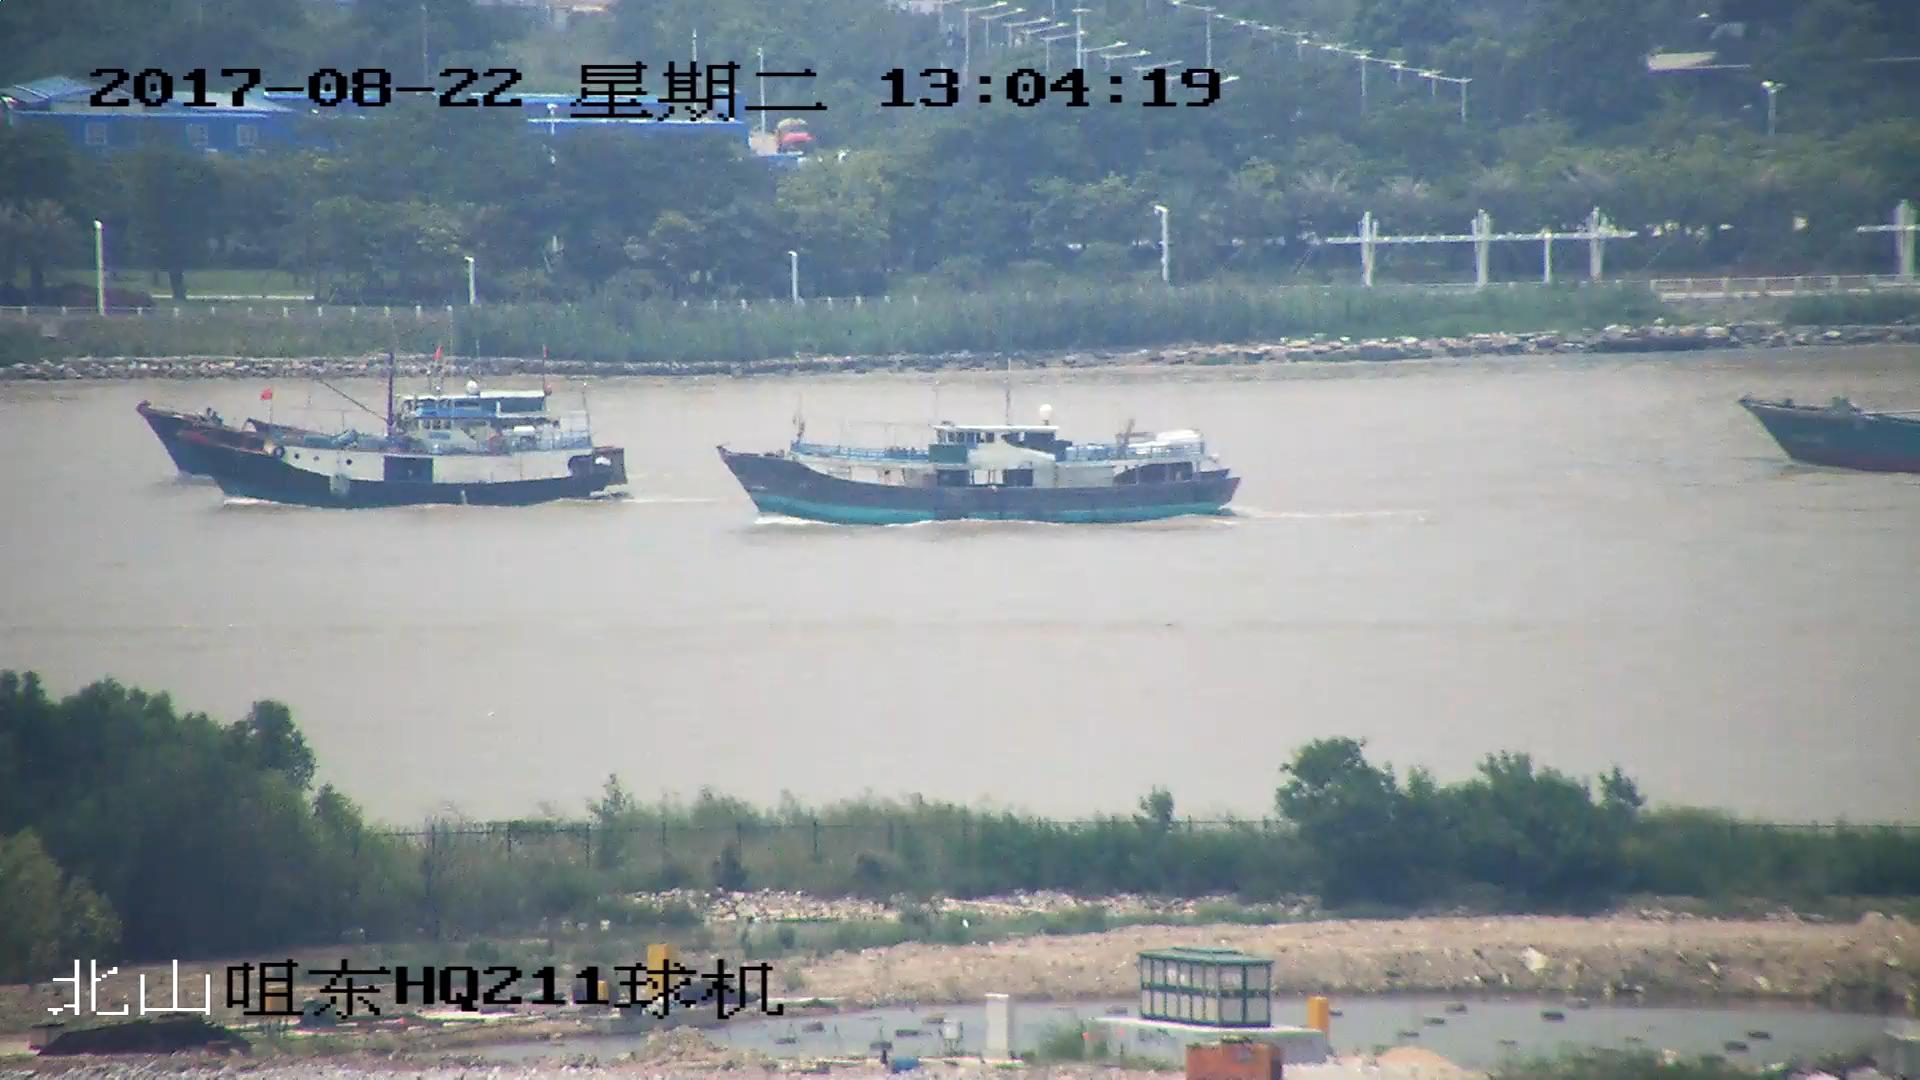fishing boat: (716, 407, 1236, 525), (185, 386, 619, 508), (144, 384, 593, 482)
